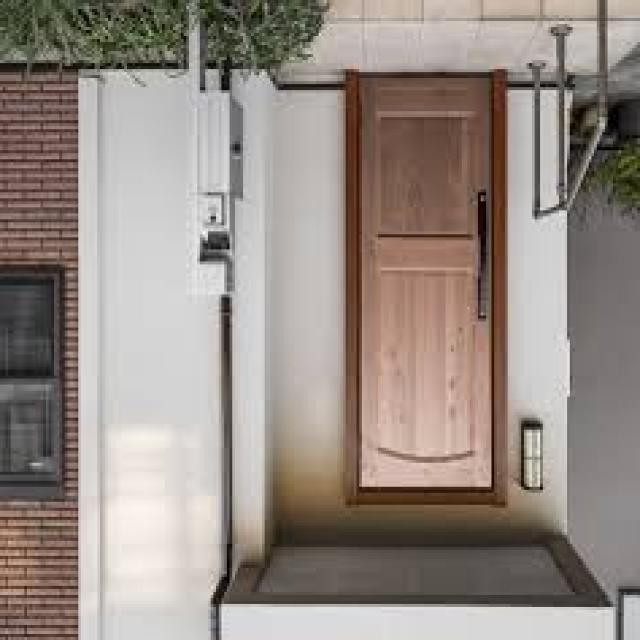door: (355, 74, 496, 497)
